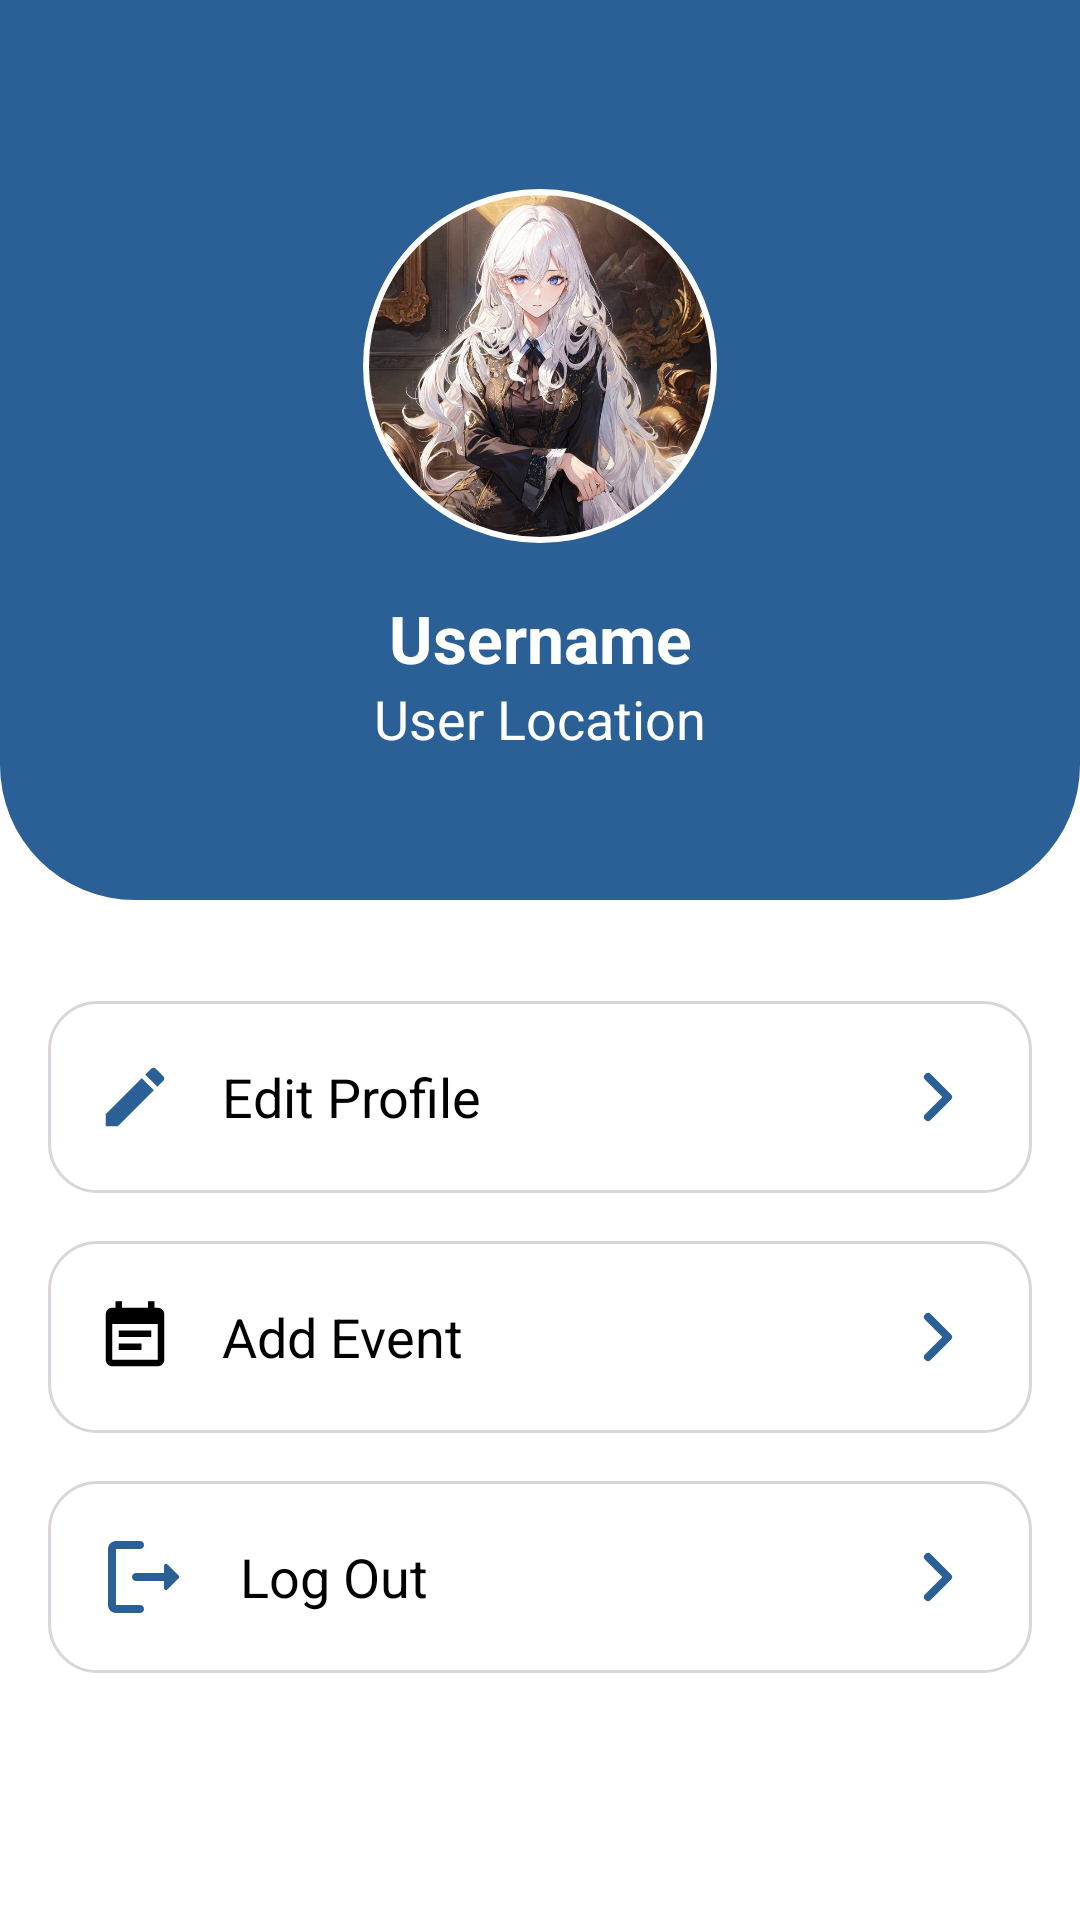

Screen size 1080 x 1920. Icon name, then its center in pixels as point (x, y):
animepic: point (540, 366)
